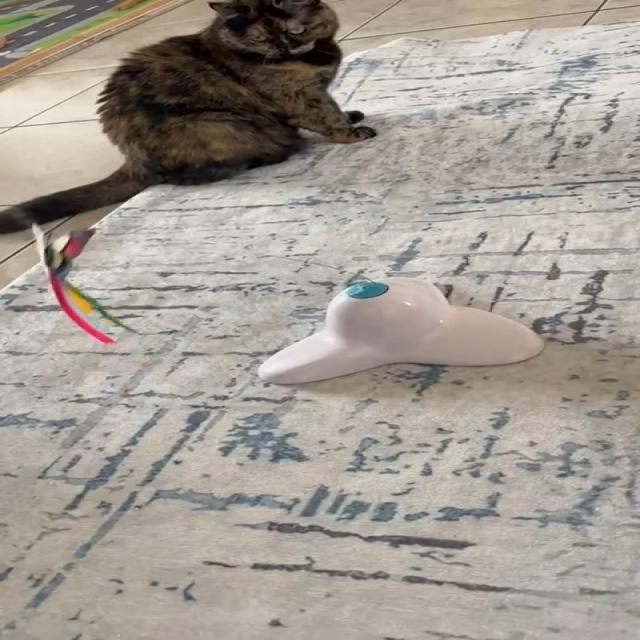authorized: (0, 0, 376, 235)
